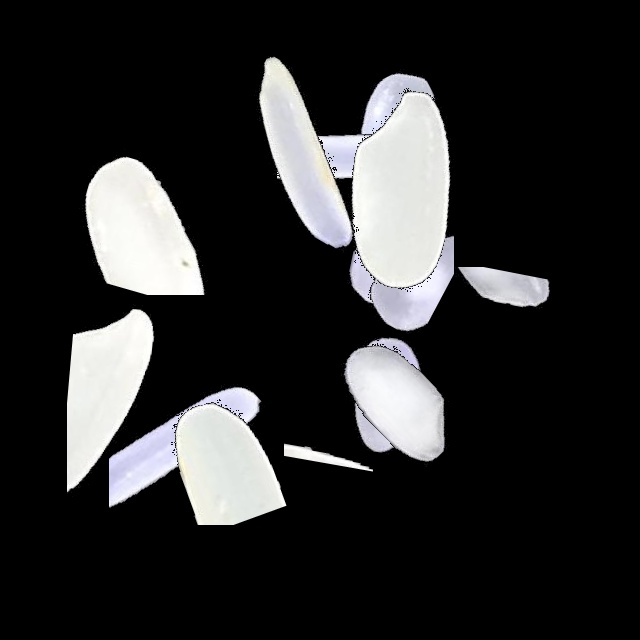Broken: (109, 352, 283, 602), (34, 121, 284, 295), (95, 377, 345, 525), (307, 130, 454, 380), (277, 31, 422, 281), (67, 281, 212, 531), (353, 267, 603, 370), (284, 293, 373, 543), (284, 128, 534, 207)
Full: (263, 271, 513, 521), (272, 275, 522, 525), (270, 128, 520, 378), (278, 1, 528, 251), (278, 65, 528, 315), (179, 29, 429, 279)
